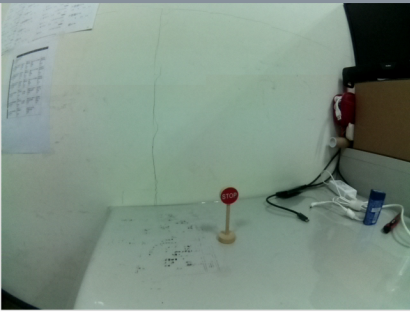Stop: (219, 184, 243, 206)
